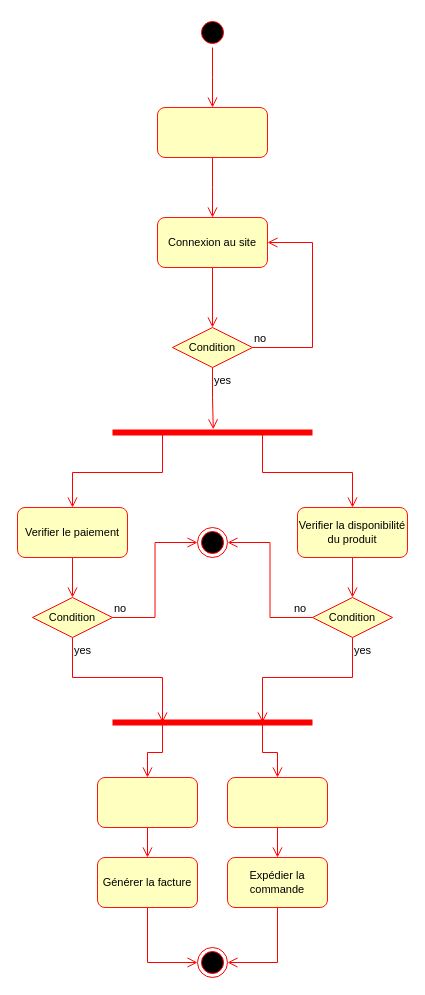
Image size: 425x995. Some labels were removed from this diagram. Here are the shapes that lost their labels. From the top down, the centre of each, then its label:
At (212,132): "Ajouter un produit dans le panier".
At (147,802): "Débiter la carte de crédit".
At (277,802): "Préparer la commande".
